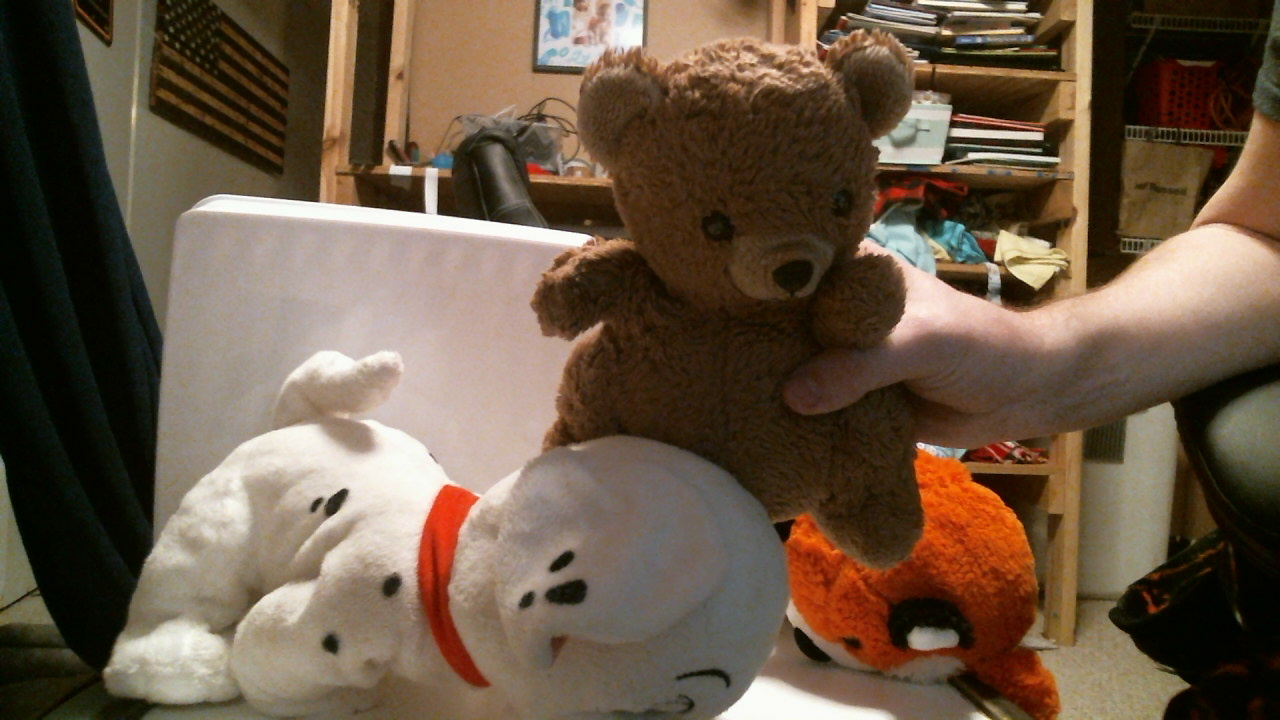Little_Mister_Bear: (698, 196, 871, 313)
